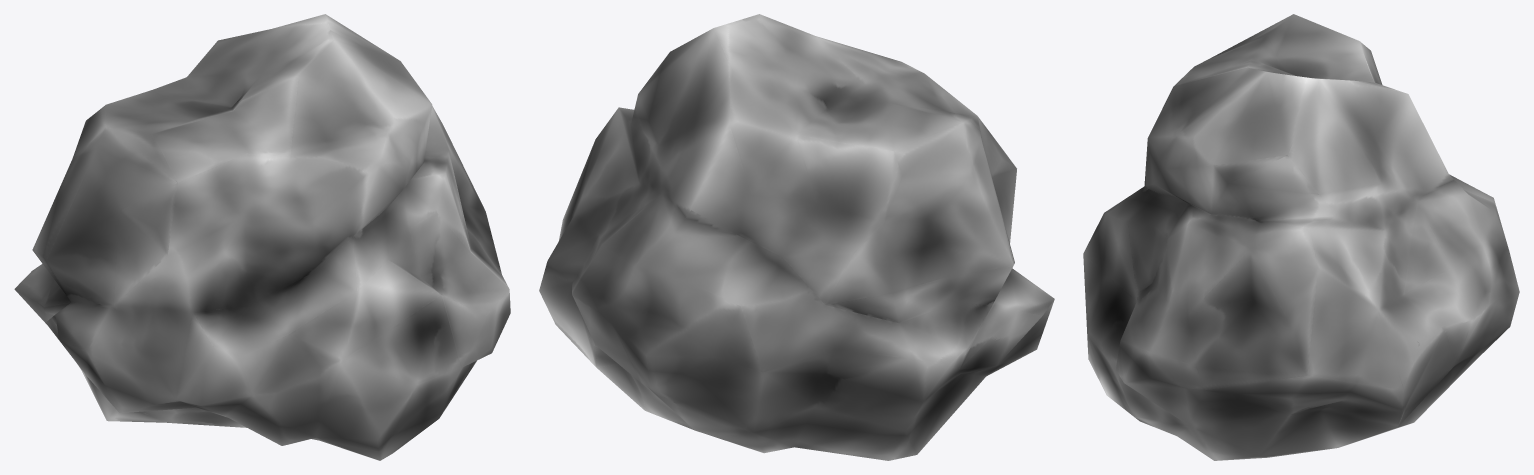
The model's file is rock1.glb.
The picture shows the model from 3 angles, left to right: view 1: azimuth 30°, elevation 25°; view 2: azimuth 150°, elevation 25°; view 3: azimuth 270°, elevation 25°; orthographic projection. The views are drawn at different scales.
Visible parts, largest first — view 1: Cube; view 2: Cube; view 3: Cube.
Part boxes in pixels (left/top/right/bottom): Cube: left=14, top=14, right=510, bottom=460; Cube: left=539, top=14, right=1054, bottom=460; Cube: left=1083, top=14, right=1519, bottom=460.
Size of the model in its own units: 1.55 by 1.22 by 1.34.
1 material, 1 textured.
